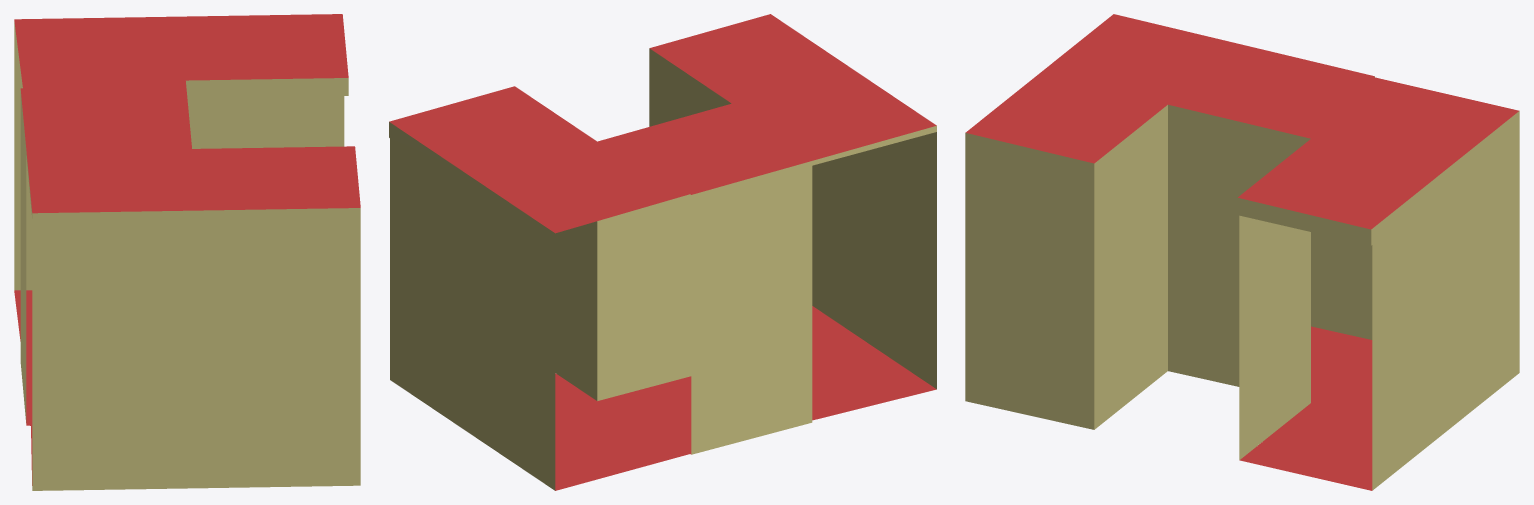
3 views of the same model, side by side, from view 1: azimuth 30°, elevation 25°; view 2: azimuth 150°, elevation 25°; view 3: azimuth 270°, elevation 25° (orthographic). The views are drawn at different scales.
Parts seen in each view (by area): view 1: group_4, group_3, group_5; view 2: group_4, group_3, group_5; view 3: group_4, group_3, group_5.
Part boxes in pixels (x1,y1,x2,y2): group_4: (14, 22, 360, 490); group_3: (14, 14, 360, 213); group_5: (14, 290, 32, 485); group_4: (389, 48, 936, 490); group_3: (389, 14, 936, 233); group_5: (555, 306, 936, 490); group_4: (965, 76, 1519, 490); group_3: (965, 14, 1519, 229); group_5: (1239, 326, 1372, 490).
Size of the model in its own units: 15.52 by 17.37 by 9.29.
